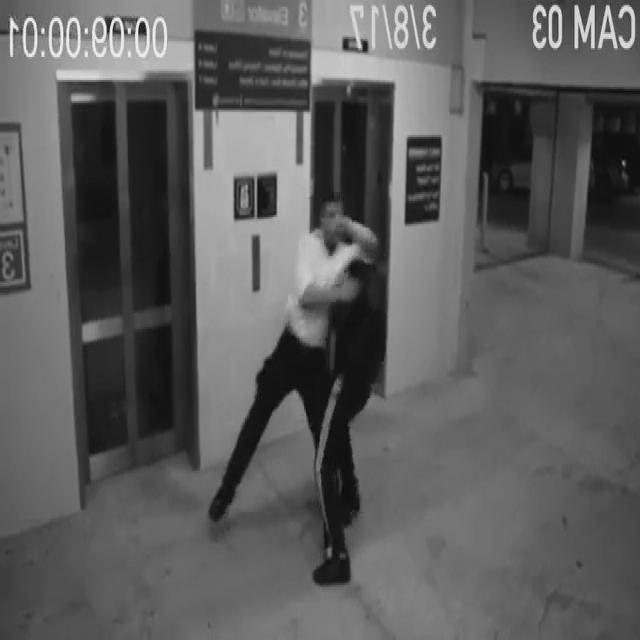fight: (210, 193, 387, 588)
